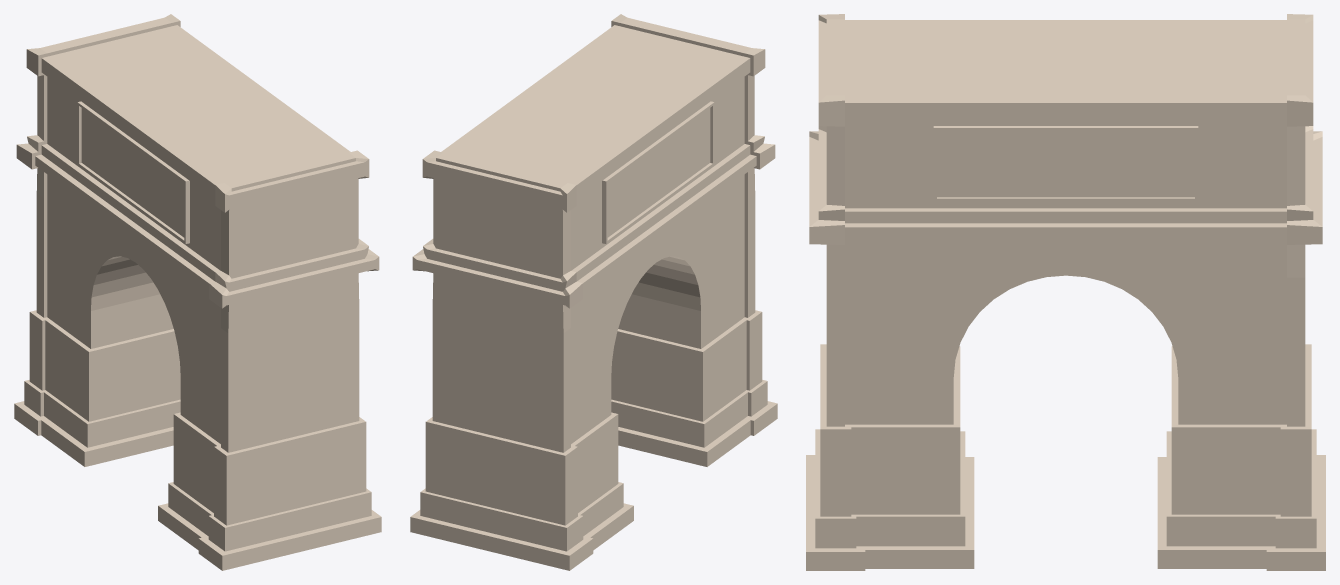
The model's file is Titus_Arch.fbx.
The picture shows the model from 3 angles, left to right: view 1: azimuth 30°, elevation 25°; view 2: azimuth 150°, elevation 25°; view 3: azimuth 270°, elevation 25°; orthographic projection. The views are drawn at different scales.
Visible parts, largest first — view 1: Titus Arch; view 2: Titus Arch; view 3: Titus Arch.
Part boxes in pixels (x1,y1,x2,y2): Titus Arch: (14, 14, 381, 570); Titus Arch: (410, 14, 777, 570); Titus Arch: (806, 14, 1325, 570).
Size of the model in its own units: 1977 by 4413 by 4470.
